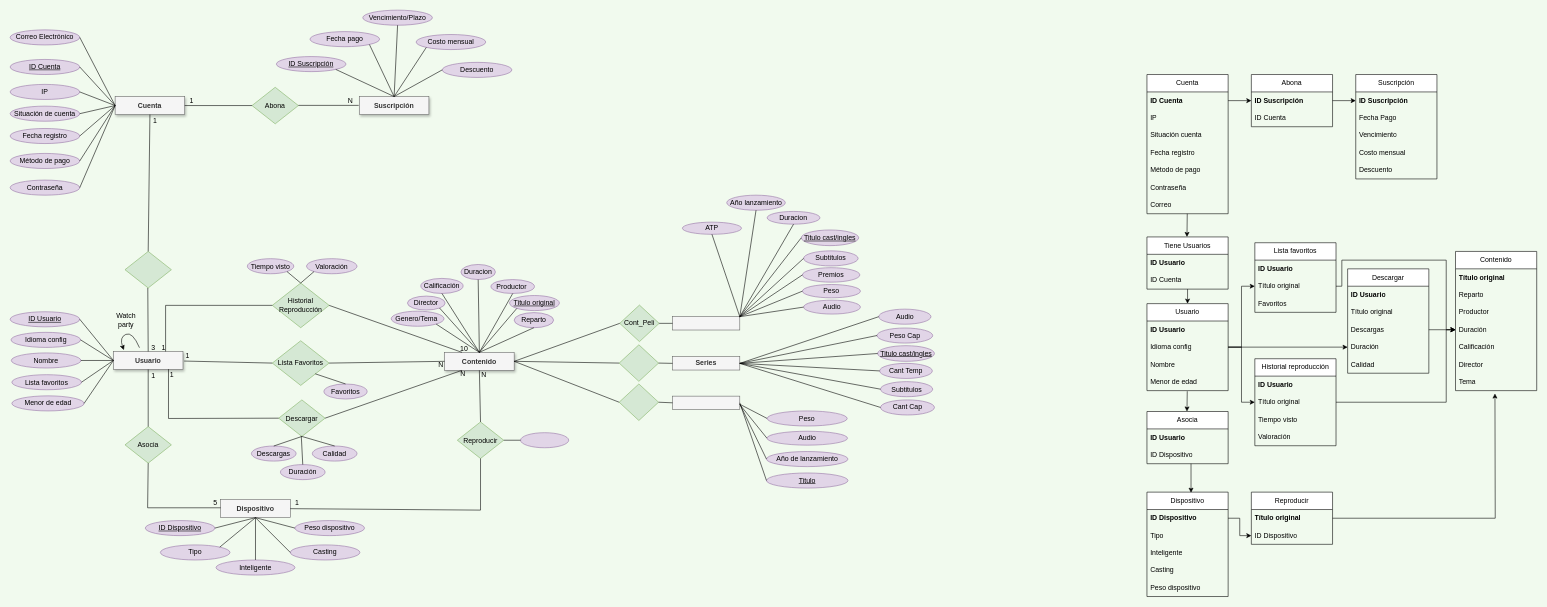
This 1547x607 diagram has some shape labels left out. Each missing label, with the centre of its shape:
"Cont_Docu" goes at pixel 639 401.
"Cont_Serie" goes at pixel 639 362.
"Documentales" goes at pixel 706 402.
"Peliculas" goes at pixel 706 323.
"Permite" goes at pixel 147 269.
"Velocidad" goes at pixel 544 440.
